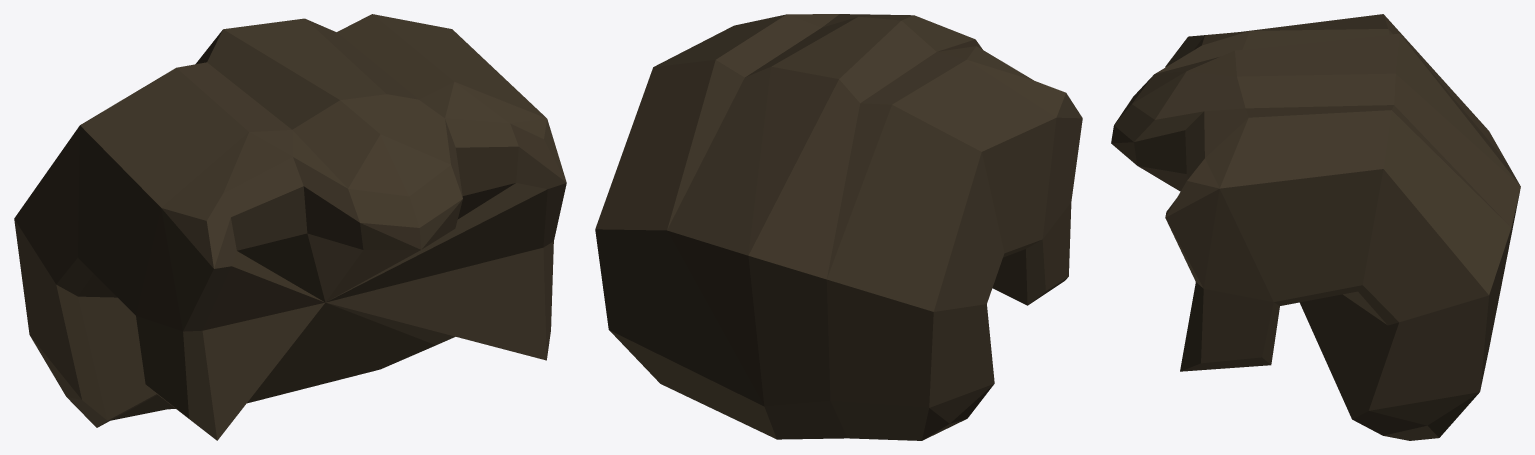
File: SM_Chr_Attach_Hair_Male_01.fbx
3 views of the same model, side by side, from view 1: azimuth 30°, elevation 25°; view 2: azimuth 150°, elevation 25°; view 3: azimuth 270°, elevation 25° (orthographic). The views are drawn at different scales.
Parts seen in each view (by area): view 1: SM_Chr_Attach_Hair_Male_01; view 2: SM_Chr_Attach_Hair_Male_01; view 3: SM_Chr_Attach_Hair_Male_01.
Part boxes in pixels (<box>): SM_Chr_Attach_Hair_Male_01: <box>14,14,566,440</box>; SM_Chr_Attach_Hair_Male_01: <box>595,14,1082,440</box>; SM_Chr_Attach_Hair_Male_01: <box>1111,14,1520,440</box>.
Bounding box in the file's own units: 24.75 × 23.46 × 24.89.
